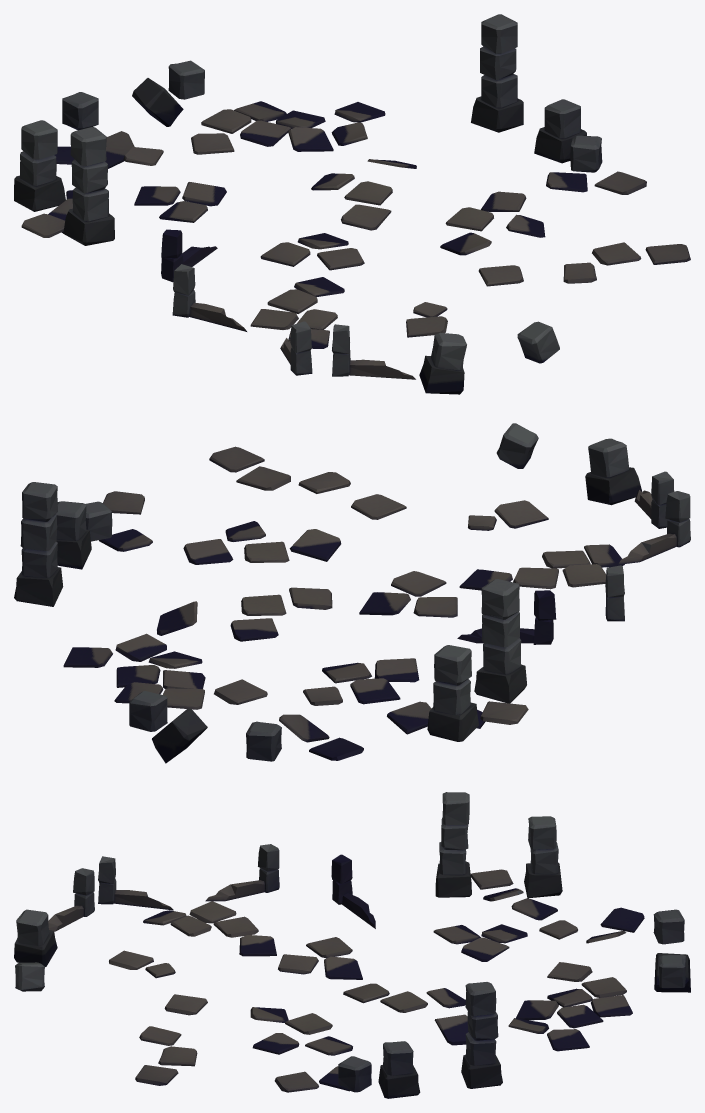
Rendered from Ground_04.FBX.
3 views of the same model, one above another, from view 1: azimuth 30°, elevation 25°; view 2: azimuth 150°, elevation 25°; view 3: azimuth 270°, elevation 25° (orthographic). The views are drawn at different scales.
Parts seen in each view (by area): view 1: Ground_04; view 2: Ground_04; view 3: Ground_04.
Part boxes in pixels (x1=…): Ground_04: x1=14, y1=14, x2=690, y2=394; Ground_04: x1=14, y1=423, x2=690, y2=763; Ground_04: x1=14, y1=792, x2=690, y2=1098.
Bounding box in the file's own units: 15.75 × 3.61 × 19.88.
